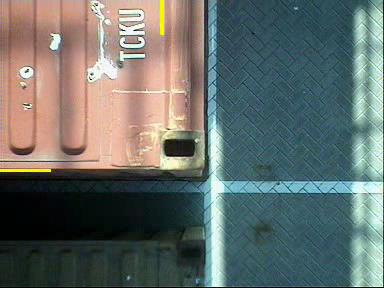groundmarker_2: (1, 1, 58, 52)
